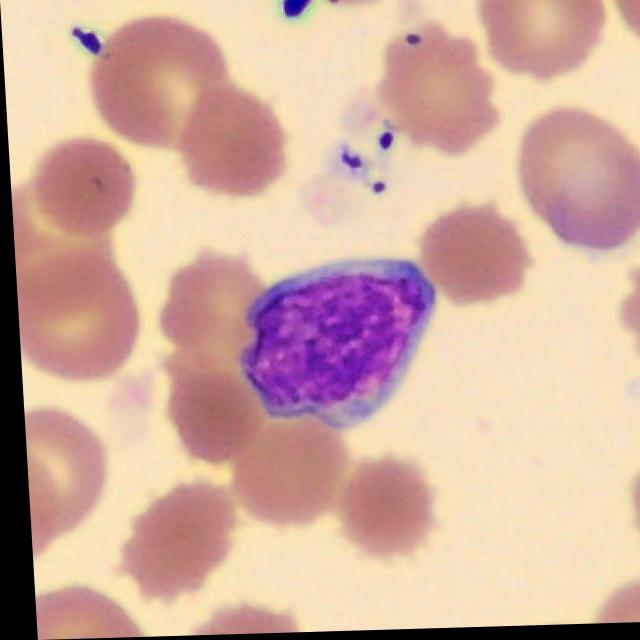Linfocito: (233, 262, 432, 436)
